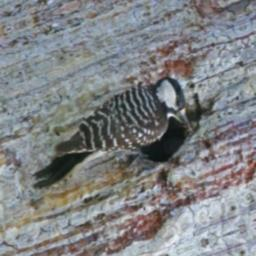Woodpecker: (20, 62, 198, 196)
